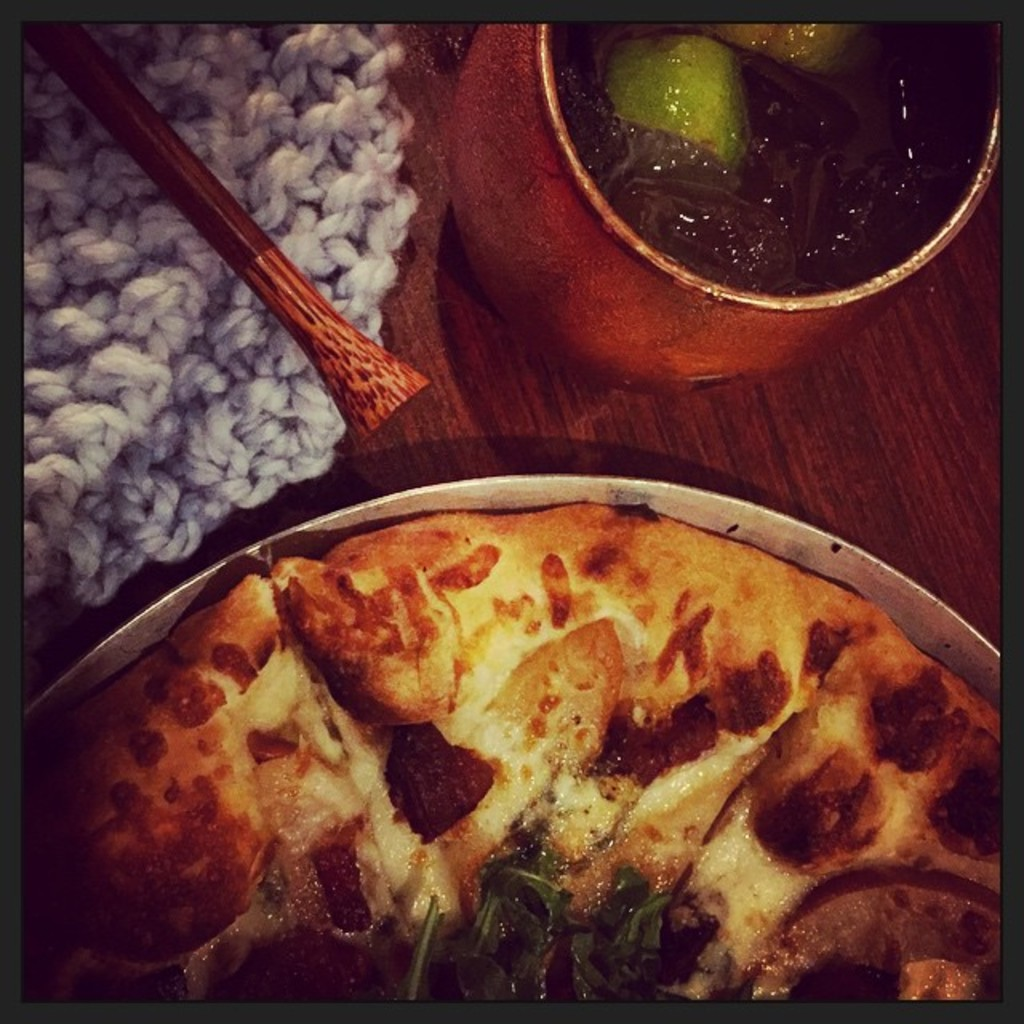Pizza: (24, 487, 1003, 999)
